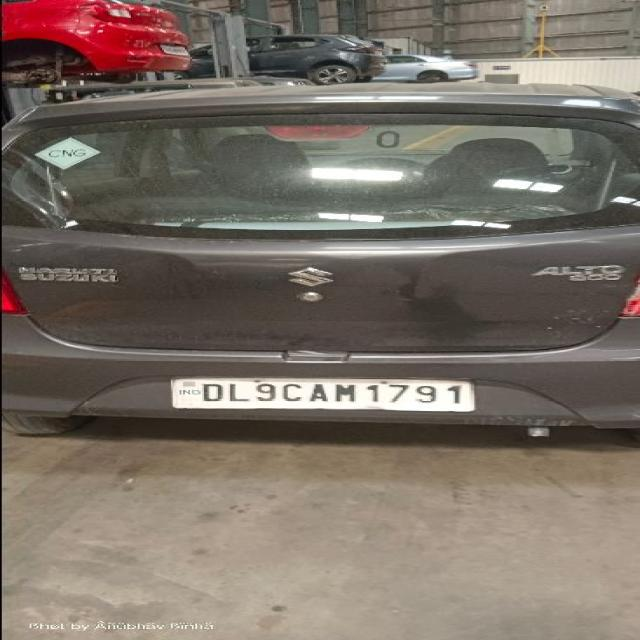license_plate: (167, 376, 476, 412)
